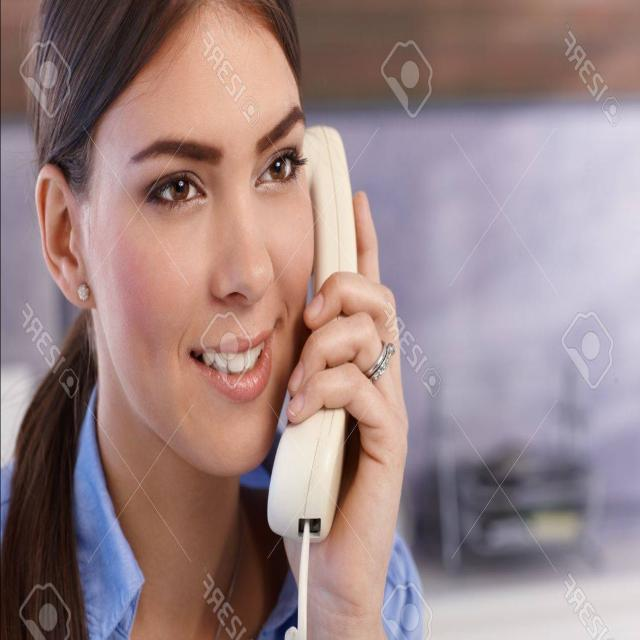phone: (228, 106, 390, 543)
